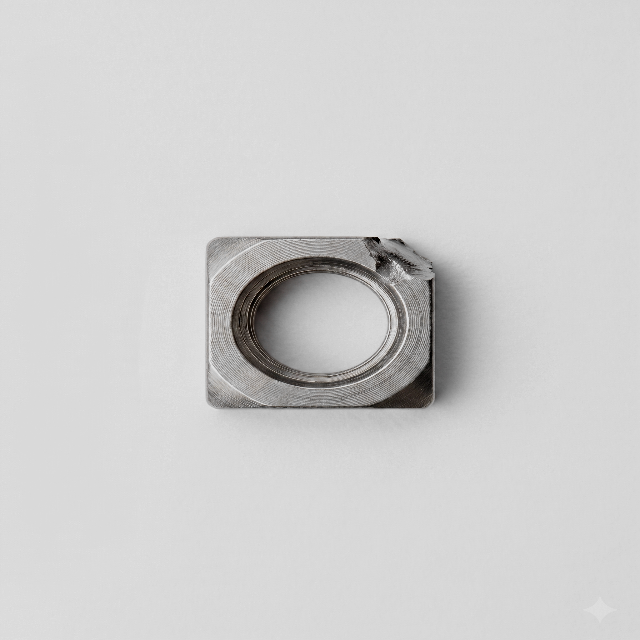defect: (356, 231, 439, 288)
